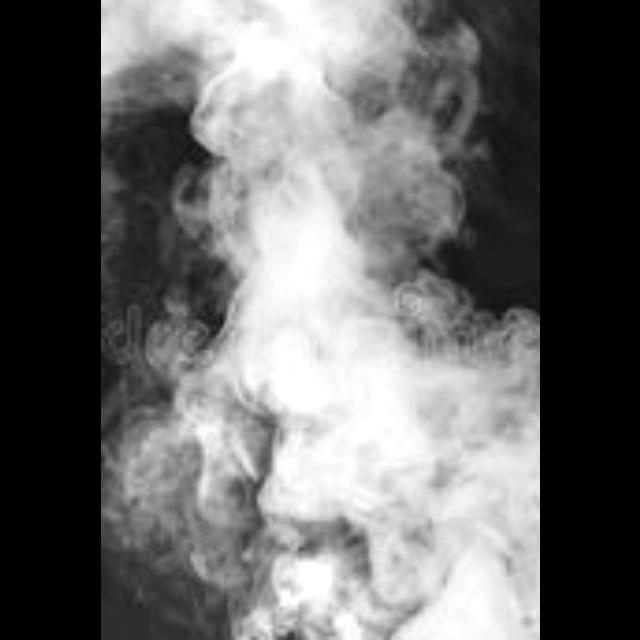smoke: (100, 0, 539, 640)
